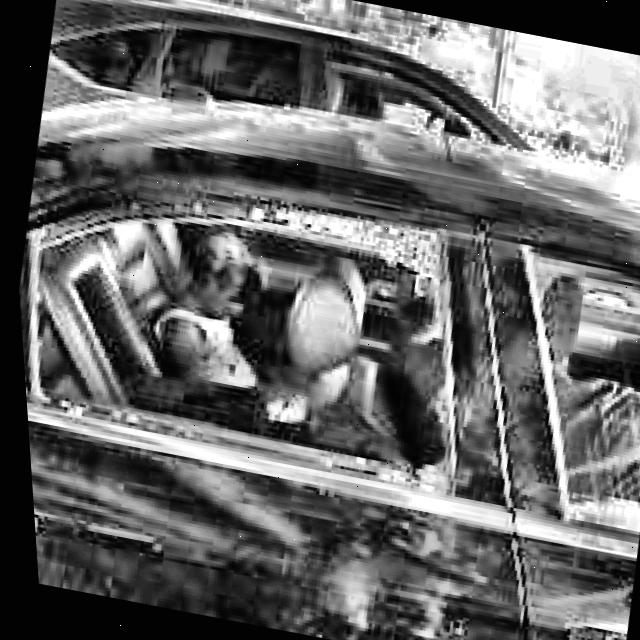glass_shatter: (24, 174, 448, 476)
